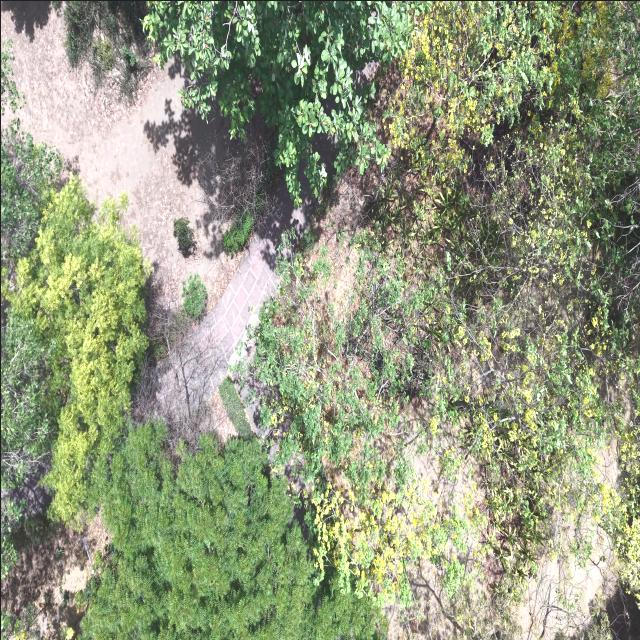DRY_AREA: (1, 1, 313, 424), (1, 1, 313, 423), (1, 1, 311, 424), (1, 1, 307, 423), (1, 1, 240, 306), (1, 1, 239, 305), (142, 170, 317, 445), (142, 182, 318, 449), (147, 182, 313, 432), (152, 194, 305, 440), (1, 11, 180, 200), (133, 235, 279, 450), (153, 237, 278, 446), (154, 238, 277, 447), (156, 239, 277, 439), (154, 237, 278, 424), (1, 469, 111, 639), (1, 514, 110, 638), (384, 529, 506, 639), (518, 519, 618, 639), (385, 531, 494, 639), (517, 529, 617, 639), (209, 238, 278, 363), (384, 558, 465, 639), (210, 388, 238, 443)
PATHWAYS: (155, 180, 316, 423), (156, 232, 280, 423)
VEGETATION_TREE: (1, 1, 639, 639), (251, 2, 639, 628), (386, 3, 639, 599), (252, 253, 481, 604), (1, 121, 146, 577), (82, 422, 378, 639), (144, 1, 424, 205), (1, 178, 146, 523), (4, 177, 147, 525), (1, 291, 57, 577), (1, 306, 60, 577), (1, 474, 82, 639), (196, 118, 281, 257), (1, 292, 60, 490), (1, 307, 61, 488), (211, 119, 280, 256), (59, 1, 151, 102), (1, 121, 62, 266), (608, 418, 639, 601), (147, 305, 194, 370), (219, 376, 252, 437), (1, 497, 21, 577), (1, 603, 44, 639), (1, 40, 22, 113), (222, 210, 254, 256), (183, 274, 207, 318), (577, 611, 614, 639), (173, 217, 196, 257)
